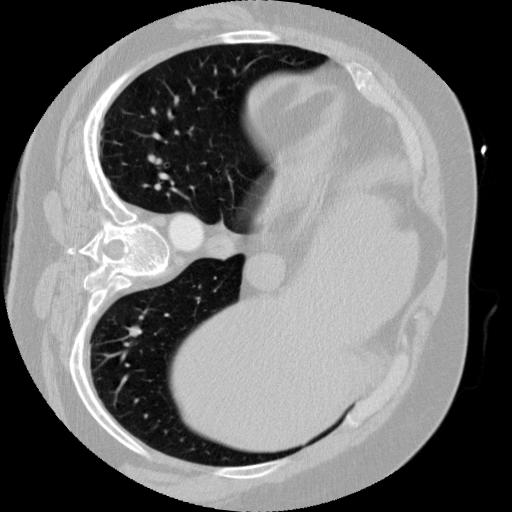nodule: (127, 323, 147, 343)
